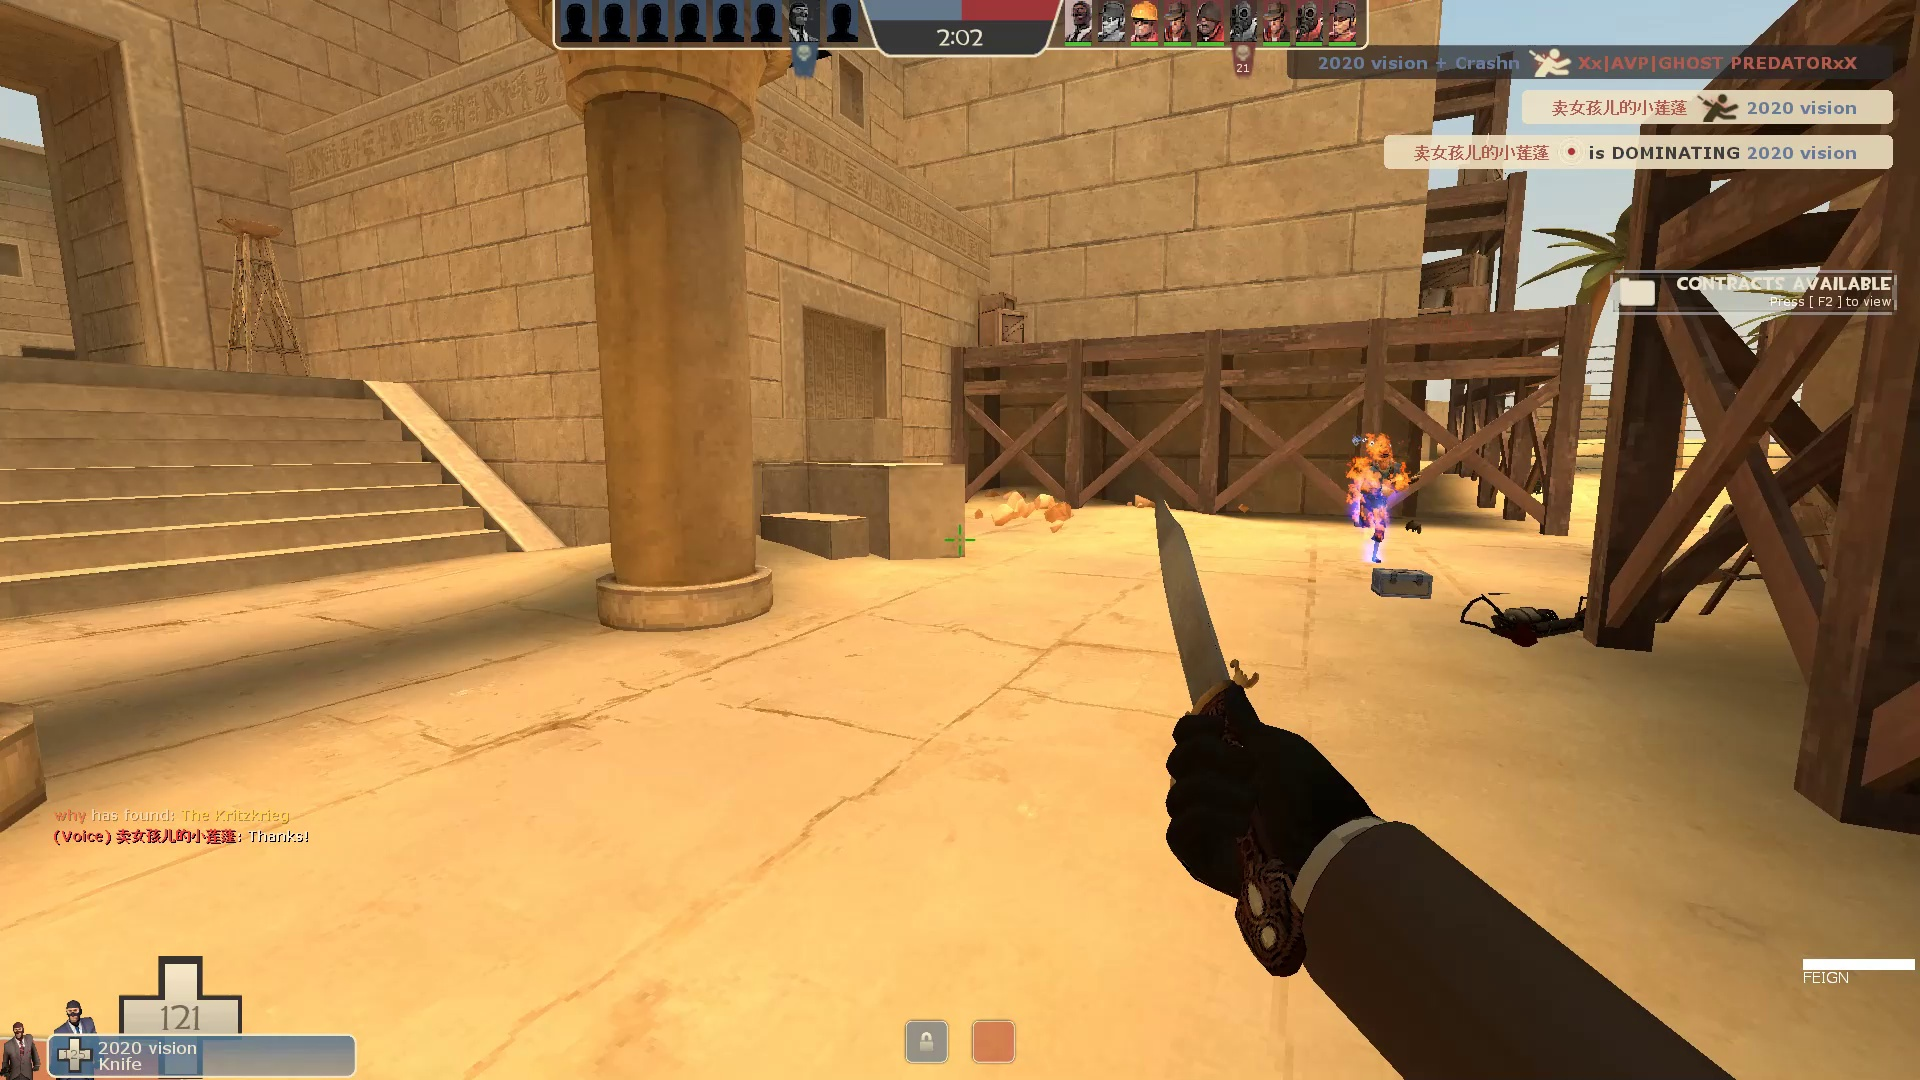blu_scout: (1338, 444, 1414, 574)
